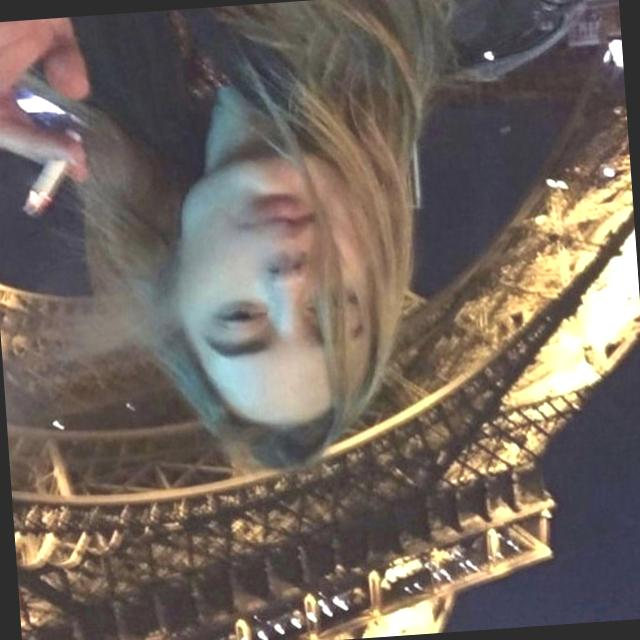cigarette: (6, 106, 99, 232)
